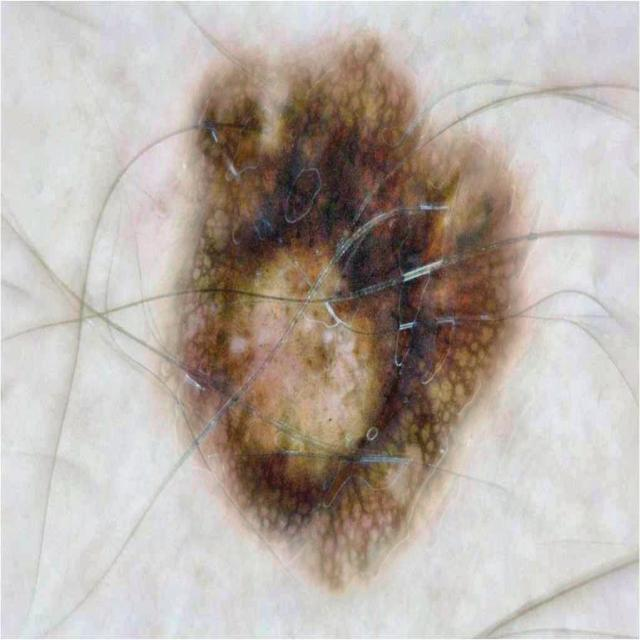Melanocytic-Nevi-NV-: (179, 33, 525, 590)
